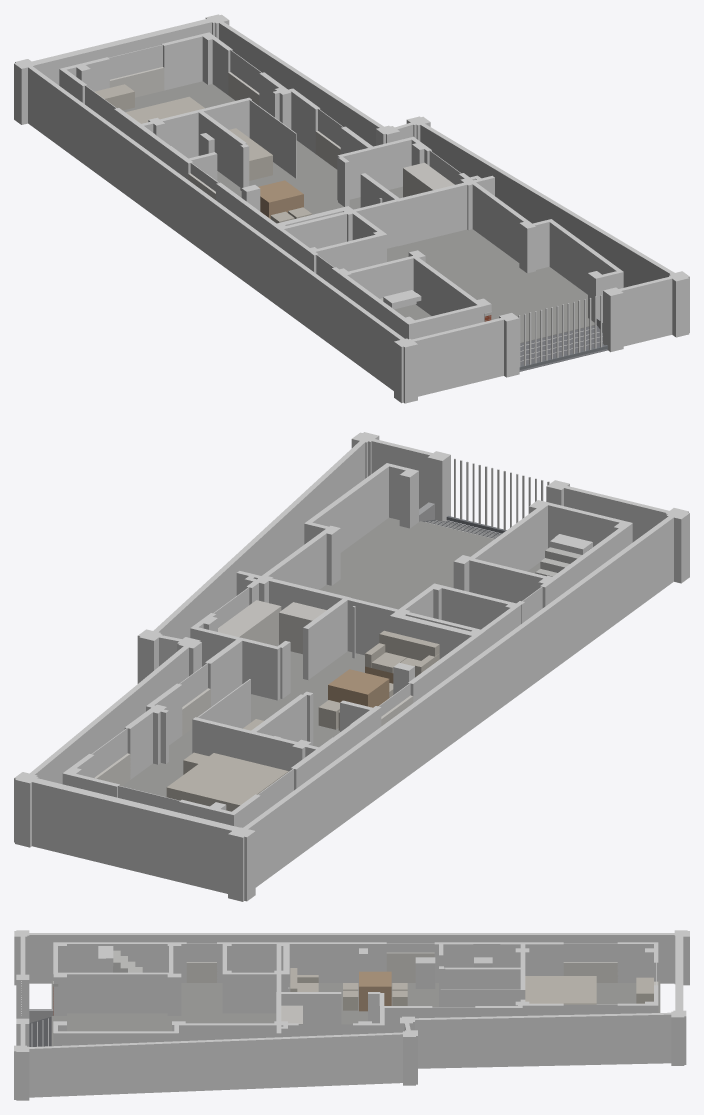
3 views of the same model, one above another, from view 1: azimuth 30°, elevation 25°; view 2: azimuth 150°, elevation 25°; view 3: azimuth 270°, elevation 25° (orthographic). The views are drawn at different scales.
Visible parts, largest first — view 1: BOUNDARY#209, BOUNDARY#193, PLINTH#0, BOUNDARY#167, PLINTH#1, BOUNDARY#201, GROUND_FLOOR/partition#105, GROUND_FLOOR/flat_front_wall#90, BOUNDARY#171, BOUNDARY#205, PLINTH#3, GROUND_FLOOR/partition#118 (+43 smaller); view 2: BOUNDARY#209, BOUNDARY#205, PLINTH#0, BOUNDARY#193, BOUNDARY#201, GROUND_FLOOR/furniture#139, GROUND_FLOOR/flat_front_wall#90, GROUND_FLOOR/partition#118, GROUND_FLOOR/full_wall#151, GROUND_FLOOR/stair#42, GROUND_FLOOR/partition#109, BOUNDARY#167 (+40 smaller); view 3: BOUNDARY#193, BOUNDARY#201, BOUNDARY#209, GROUND_FLOOR/stair#42, GROUND_FLOOR/flat_wall#46, GROUND_FLOOR/core_wall#97, GROUND_FLOOR/lift#45, PLINTH#1, PLINTH#0, GROUND_FLOOR/furniture#139, GROUND_FLOOR/flat_wall#56, GROUND_FLOOR/partition#116 (+49 smaller).
Part boxes in pixels (x1,y1,x2,y2): BOUNDARY#209: (24, 62, 408, 390); BOUNDARY#193: (415, 120, 676, 287); PLINTH#0: (401, 266, 594, 343); BOUNDARY#167: (412, 317, 503, 396); PLINTH#1: (387, 229, 521, 285); BOUNDARY#201: (218, 20, 387, 146); GROUND_FLOOR/partition#105: (396, 181, 475, 246); GROUND_FLOOR/flat_front_wall#90: (280, 175, 494, 248); BOUNDARY#171: (613, 275, 679, 346); BOUNDARY#205: (24, 17, 218, 85); PLINTH#3: (217, 140, 337, 206); GROUND_FLOOR/partition#118: (141, 97, 251, 158); BOUNDARY#209: (242, 512, 677, 887); BOUNDARY#205: (26, 776, 241, 893); PLINTH#0: (335, 517, 540, 601); BOUNDARY#193: (149, 437, 369, 638); BOUNDARY#201: (27, 643, 192, 784); GROUND_FLOOR/furniture#139: (166, 753, 288, 811); GROUND_FLOOR/flat_front_wall#90: (236, 571, 484, 655); GROUND_FLOOR/partition#118: (192, 717, 318, 771); GROUND_FLOOR/full_wall#151: (304, 463, 390, 552); GROUND_FLOOR/stair#42: (467, 502, 548, 571); GROUND_FLOOR/partition#109: (303, 598, 347, 679); BOUNDARY#167: (557, 484, 677, 542); BOUNDARY#193: (27, 1032, 405, 1097); BOUNDARY#201: (408, 1012, 671, 1068); BOUNDARY#209: (21, 933, 683, 983); GROUND_FLOOR/stair#42: (54, 972, 172, 1013); GROUND_FLOOR/flat_wall#46: (287, 942, 386, 982); GROUND_FLOOR/core_wall#97: (54, 942, 173, 972); GROUND_FLOOR/lift#45: (222, 972, 287, 1013); PLINTH#1: (180, 983, 290, 1023); PLINTH#0: (51, 980, 181, 1046); GROUND_FLOOR/furniture#139: (525, 976, 596, 1004); GROUND_FLOOR/flat_wall#56: (500, 942, 563, 975); GROUND_FLOOR/partition#116: (445, 967, 520, 988).
Bounding box in the file's own units: 8.06 × 1.5 × 18.89.
Materials: 1 (1 with a texture image).
